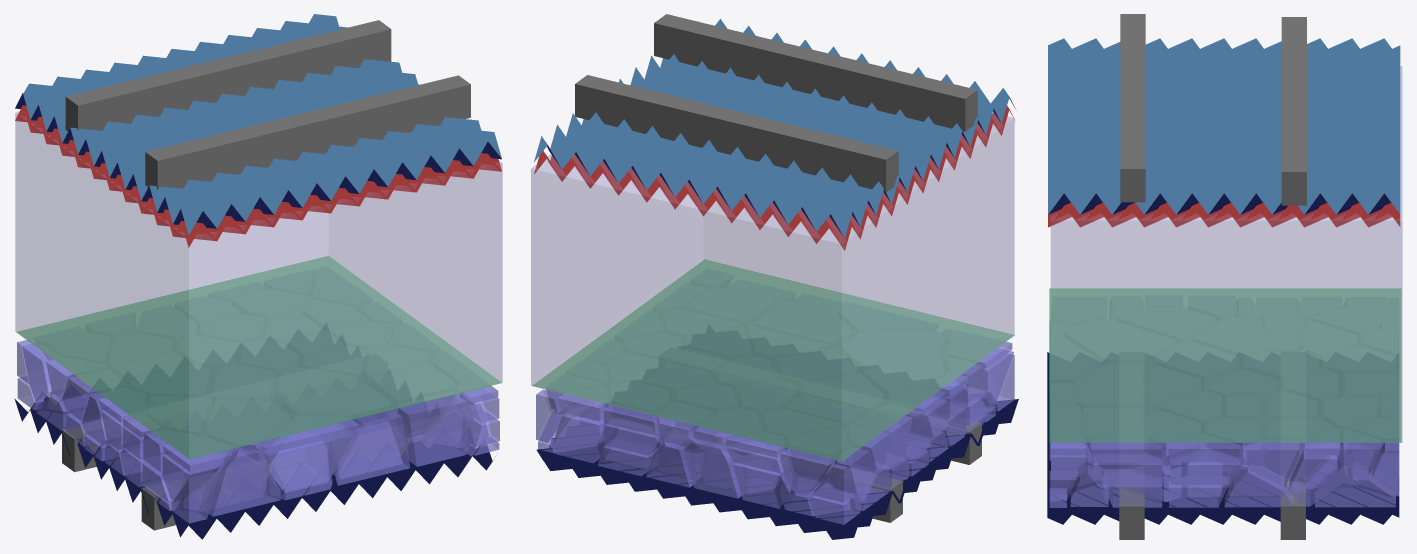
The model's file is TOPCon.glb.
3 renders of one model, left to right at view 1: azimuth 30°, elevation 25°; view 2: azimuth 150°, elevation 25°; view 3: azimuth 270°, elevation 25°, orthographic. The views are drawn at different scales.
Parts seen in each view (by area): view 1: cSi, SiOx, AlOx, Ag2 f, Ag1 f, SiNx back, p++top, PolySi_cell.014, PolySi_cell.006, PolySi_cell.059, PolySi_cell.005, SiNx (+28 smaller); view 2: cSi, SiOx, AlOx, Ag2 f, Ag1 f, SiNx back, p++top, PolySi_cell.054, PolySi_cell.052, PolySi_cell.034, PolySi_cell.015, PolySi_cell.074 (+36 smaller); view 3: cSi, SiOx, AlOx, SiNx back, Ag1 f, Ag2 f, p++top, PolySi_cell.080, PolySi_cell.074, PolySi_cell.009, PolySi_cell.008, PolySi_cell.021 (+25 smaller).
Part boxes in pixels (x1,y1,x2,y2): cSi: (15, 112, 502, 458); SiOx: (16, 256, 502, 459); AlOx: (23, 14, 501, 235); Ag2 f: (145, 75, 470, 190); Ag1 f: (65, 20, 391, 131); SiNx back: (14, 395, 495, 539); p++top: (15, 105, 501, 247); PolySi_cell.014: (396, 394, 476, 466); PolySi_cell.006: (334, 410, 410, 485); PolySi_cell.059: (264, 427, 352, 490); PolySi_cell.005: (205, 449, 280, 516); SiNx: (15, 93, 501, 228); cSi: (531, 113, 1014, 461); SiOx: (532, 259, 1014, 461); AlOx: (534, 19, 1009, 238); Ag2 f: (654, 14, 977, 131); Ag1 f: (575, 75, 898, 192); SiNx back: (536, 398, 1018, 539); p++top: (534, 106, 1015, 250); PolySi_cell.054: (552, 404, 613, 463); PolySi_cell.052: (683, 442, 744, 498); PolySi_cell.034: (733, 455, 792, 508); PolySi_cell.015: (780, 460, 849, 516); PolySi_cell.074: (538, 411, 605, 453); cSi: (1051, 66, 1402, 442); SiOx: (1049, 288, 1401, 442); AlOx: (1048, 38, 1400, 214); SiNx back: (1047, 352, 1399, 524); Ag1 f: (1281, 17, 1306, 205); Ag2 f: (1120, 14, 1145, 202); p++top: (1048, 203, 1400, 227); PolySi_cell.080: (1289, 443, 1348, 506); PolySi_cell.074: (1315, 467, 1395, 507); PolySi_cell.009: (1224, 467, 1292, 507); PolySi_cell.008: (1170, 450, 1242, 484); PolySi_cell.021: (1092, 455, 1162, 484).
Bounding box in the file's own units: 1.81 × 1.99 × 1.72.
